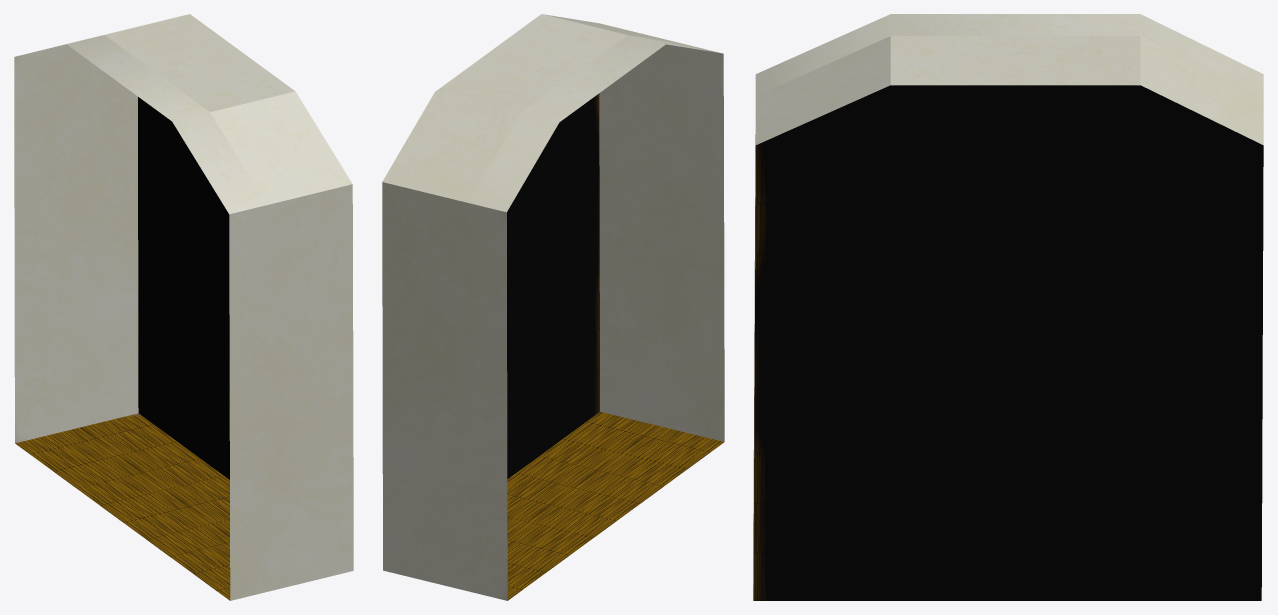
The model's file is Hallway.fbx.
3 views of the same model, side by side, from view 1: azimuth 30°, elevation 25°; view 2: azimuth 150°, elevation 25°; view 3: azimuth 270°, elevation 25° (orthographic). The views are drawn at different scales.
Parts seen in each view (by area): view 1: polySurface52; view 2: polySurface52; view 3: polySurface52.
Boxes of the visible parts, box(x1,y1,x2,y2) form: polySurface52: box(14, 14, 353, 600); polySurface52: box(382, 14, 724, 600); polySurface52: box(753, 14, 1263, 600).
Size of the model in its own units: 266 by 897 by 804.
1 material, 1 textured.
